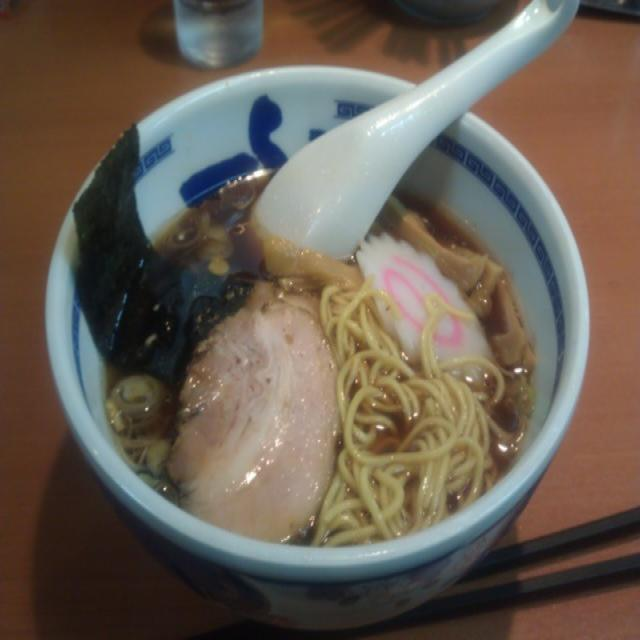面条主食: (36, 59, 572, 562)
